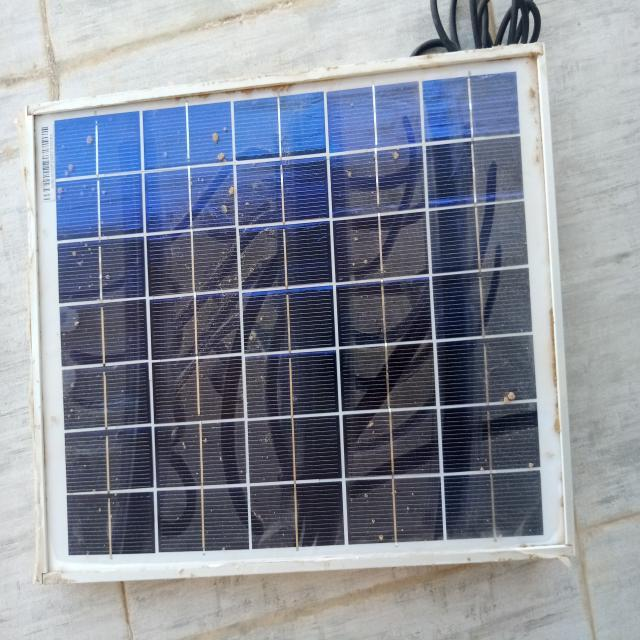faulty: (29, 49, 572, 580)
